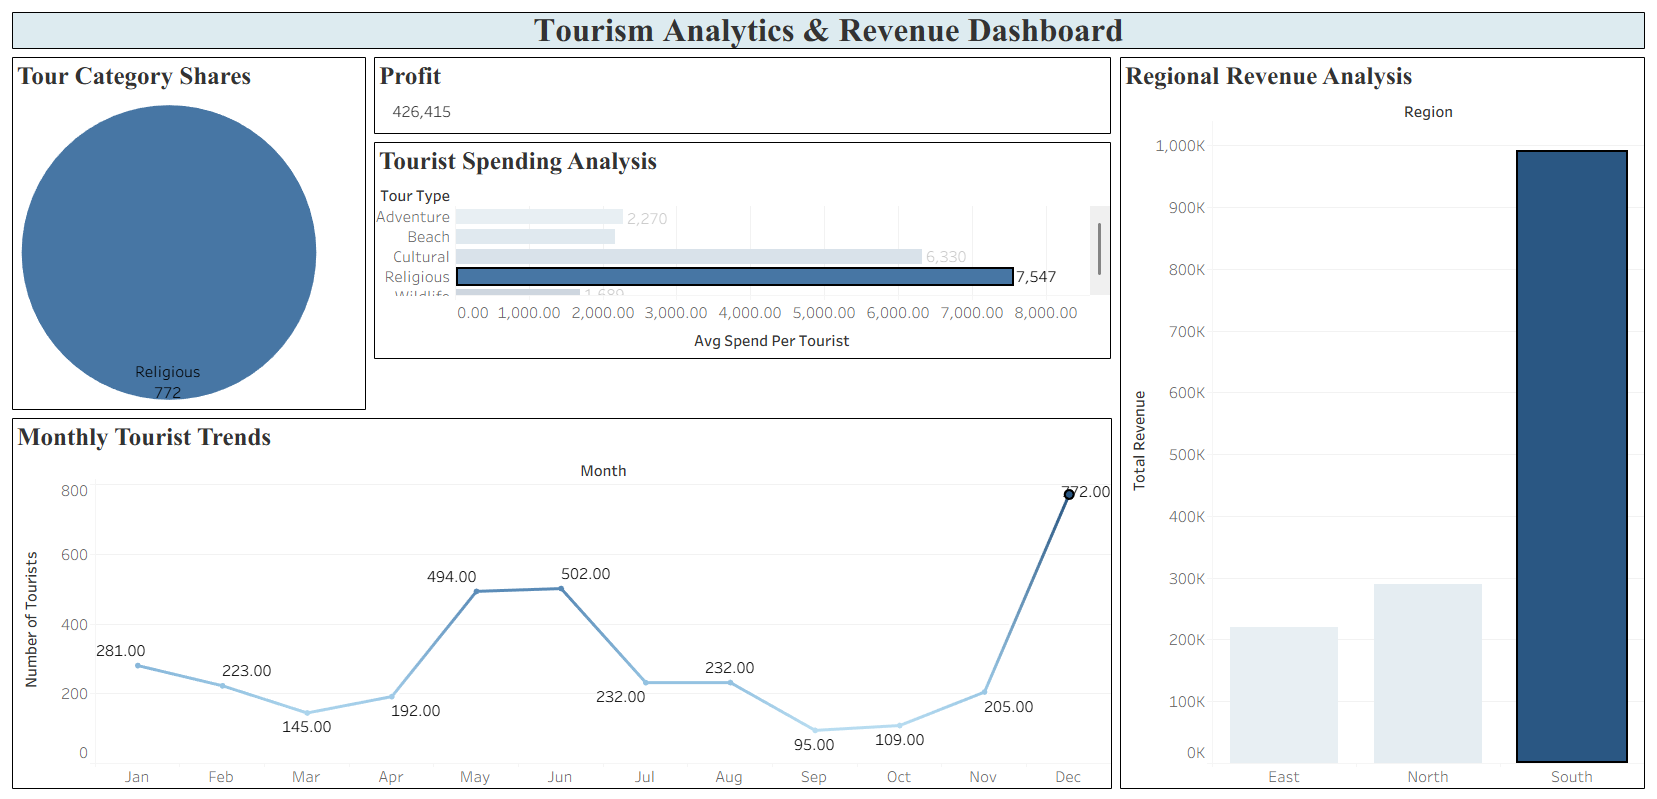

Layout of this report page (visuals, bound fields, positions):
{"tool":"tableau","page":{"name":"Dashboard 1","canvas":[1000,1000],"units":"permille","ordinal":0},"visuals":[{"type":"title","box":[4.8,10,990.3,56.2]},{"type":"worksheet","title":"Categories in Tours","mark":"Pie","box":[4.8,66.2,218.5,450.7]},{"type":"worksheet","title":"Profit","mark":"Automatic","box":[223.3,66.2,449.6,106.1]},{"type":"worksheet","title":"Revenue by Region","mark":"Automatic","rows":["Total_Revenue"],"cols":["Region"],"box":[673.5,66.2,321.7,923.8]},{"type":"worksheet","title":"spend per tourist","mark":"Automatic","rows":["Tour_Type"],"cols":["Avg_Spend_Per_Tourist"],"box":[223.3,172.3,449.6,280.9]},{"type":"worksheet","title":"Trend line of tourist","mark":"Line","rows":["Number_of_Tourists"],"cols":["Month"],"box":[4.8,516.9,668.7,473.2]}]}

Visuals, with their boxes on the dashboard's canvas, which has no fixed pixel size, in thousandths of its width and height (x1, y1, x2, y2). These are canvas units, not pixel positions in the 1657x799 screenshot, which may show the page scaled, cropped or inside an application window:
title: 5 10 995 66
"Categories in Tours" worksheet (Pie marks): 5 66 223 517
"Profit" worksheet: 223 66 673 172
"Revenue by Region" worksheet: 674 66 995 990
"spend per tourist" worksheet: 223 172 673 453
"Trend line of tourist" worksheet (Line marks): 5 517 674 990
